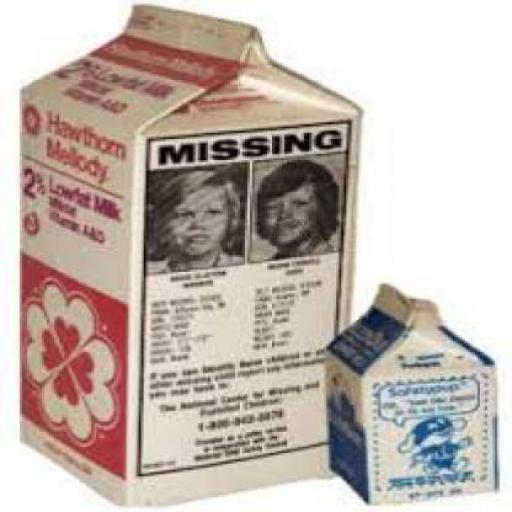cardboard: (14, 2, 359, 508), (324, 280, 497, 502)
